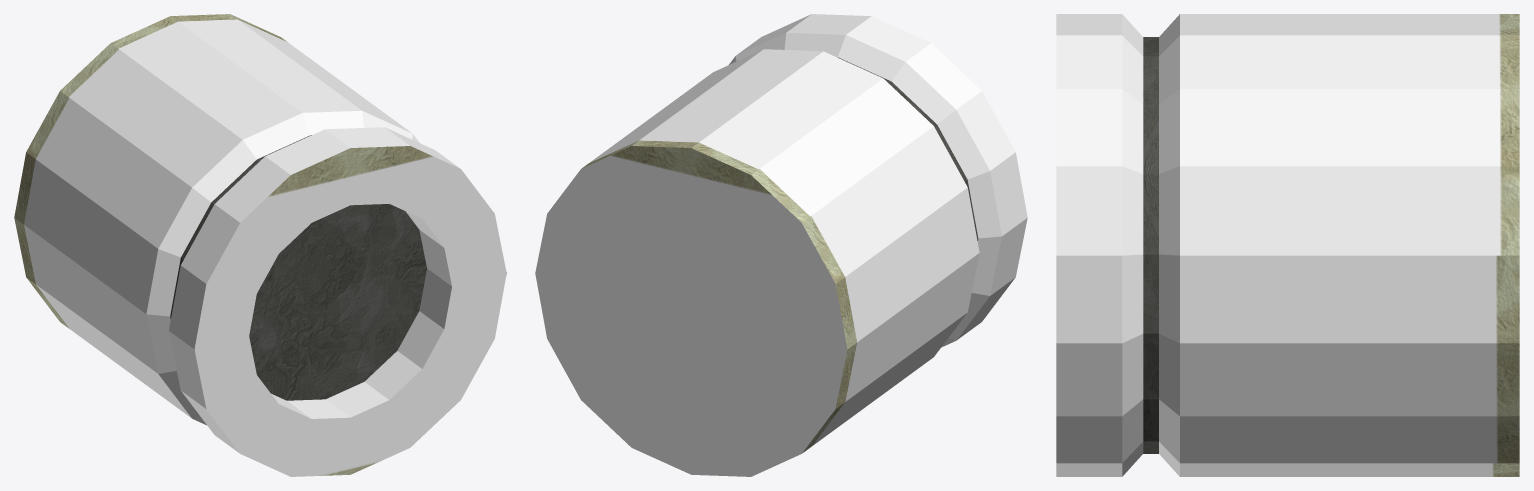
3 views of the same model, side by side, from view 1: azimuth 30°, elevation 25°; view 2: azimuth 150°, elevation 25°; view 3: azimuth 270°, elevation 25° (orthographic). The views are drawn at different scales.
Visible parts, largest first — view 1: Cube_Cube_None_QuartoPieces.png; view 2: Cube_Cube_None_QuartoPieces.png; view 3: Cube_Cube_None_QuartoPieces.png.
Part boxes in pixels (x1=…): Cube_Cube_None_QuartoPieces.png: x1=14, y1=14, x2=506, y2=476; Cube_Cube_None_QuartoPieces.png: x1=535, y1=14, x2=1027, y2=476; Cube_Cube_None_QuartoPieces.png: x1=1056, y1=14, x2=1519, y2=476.
Size of the model in its own units: 2 by 2 by 2.
